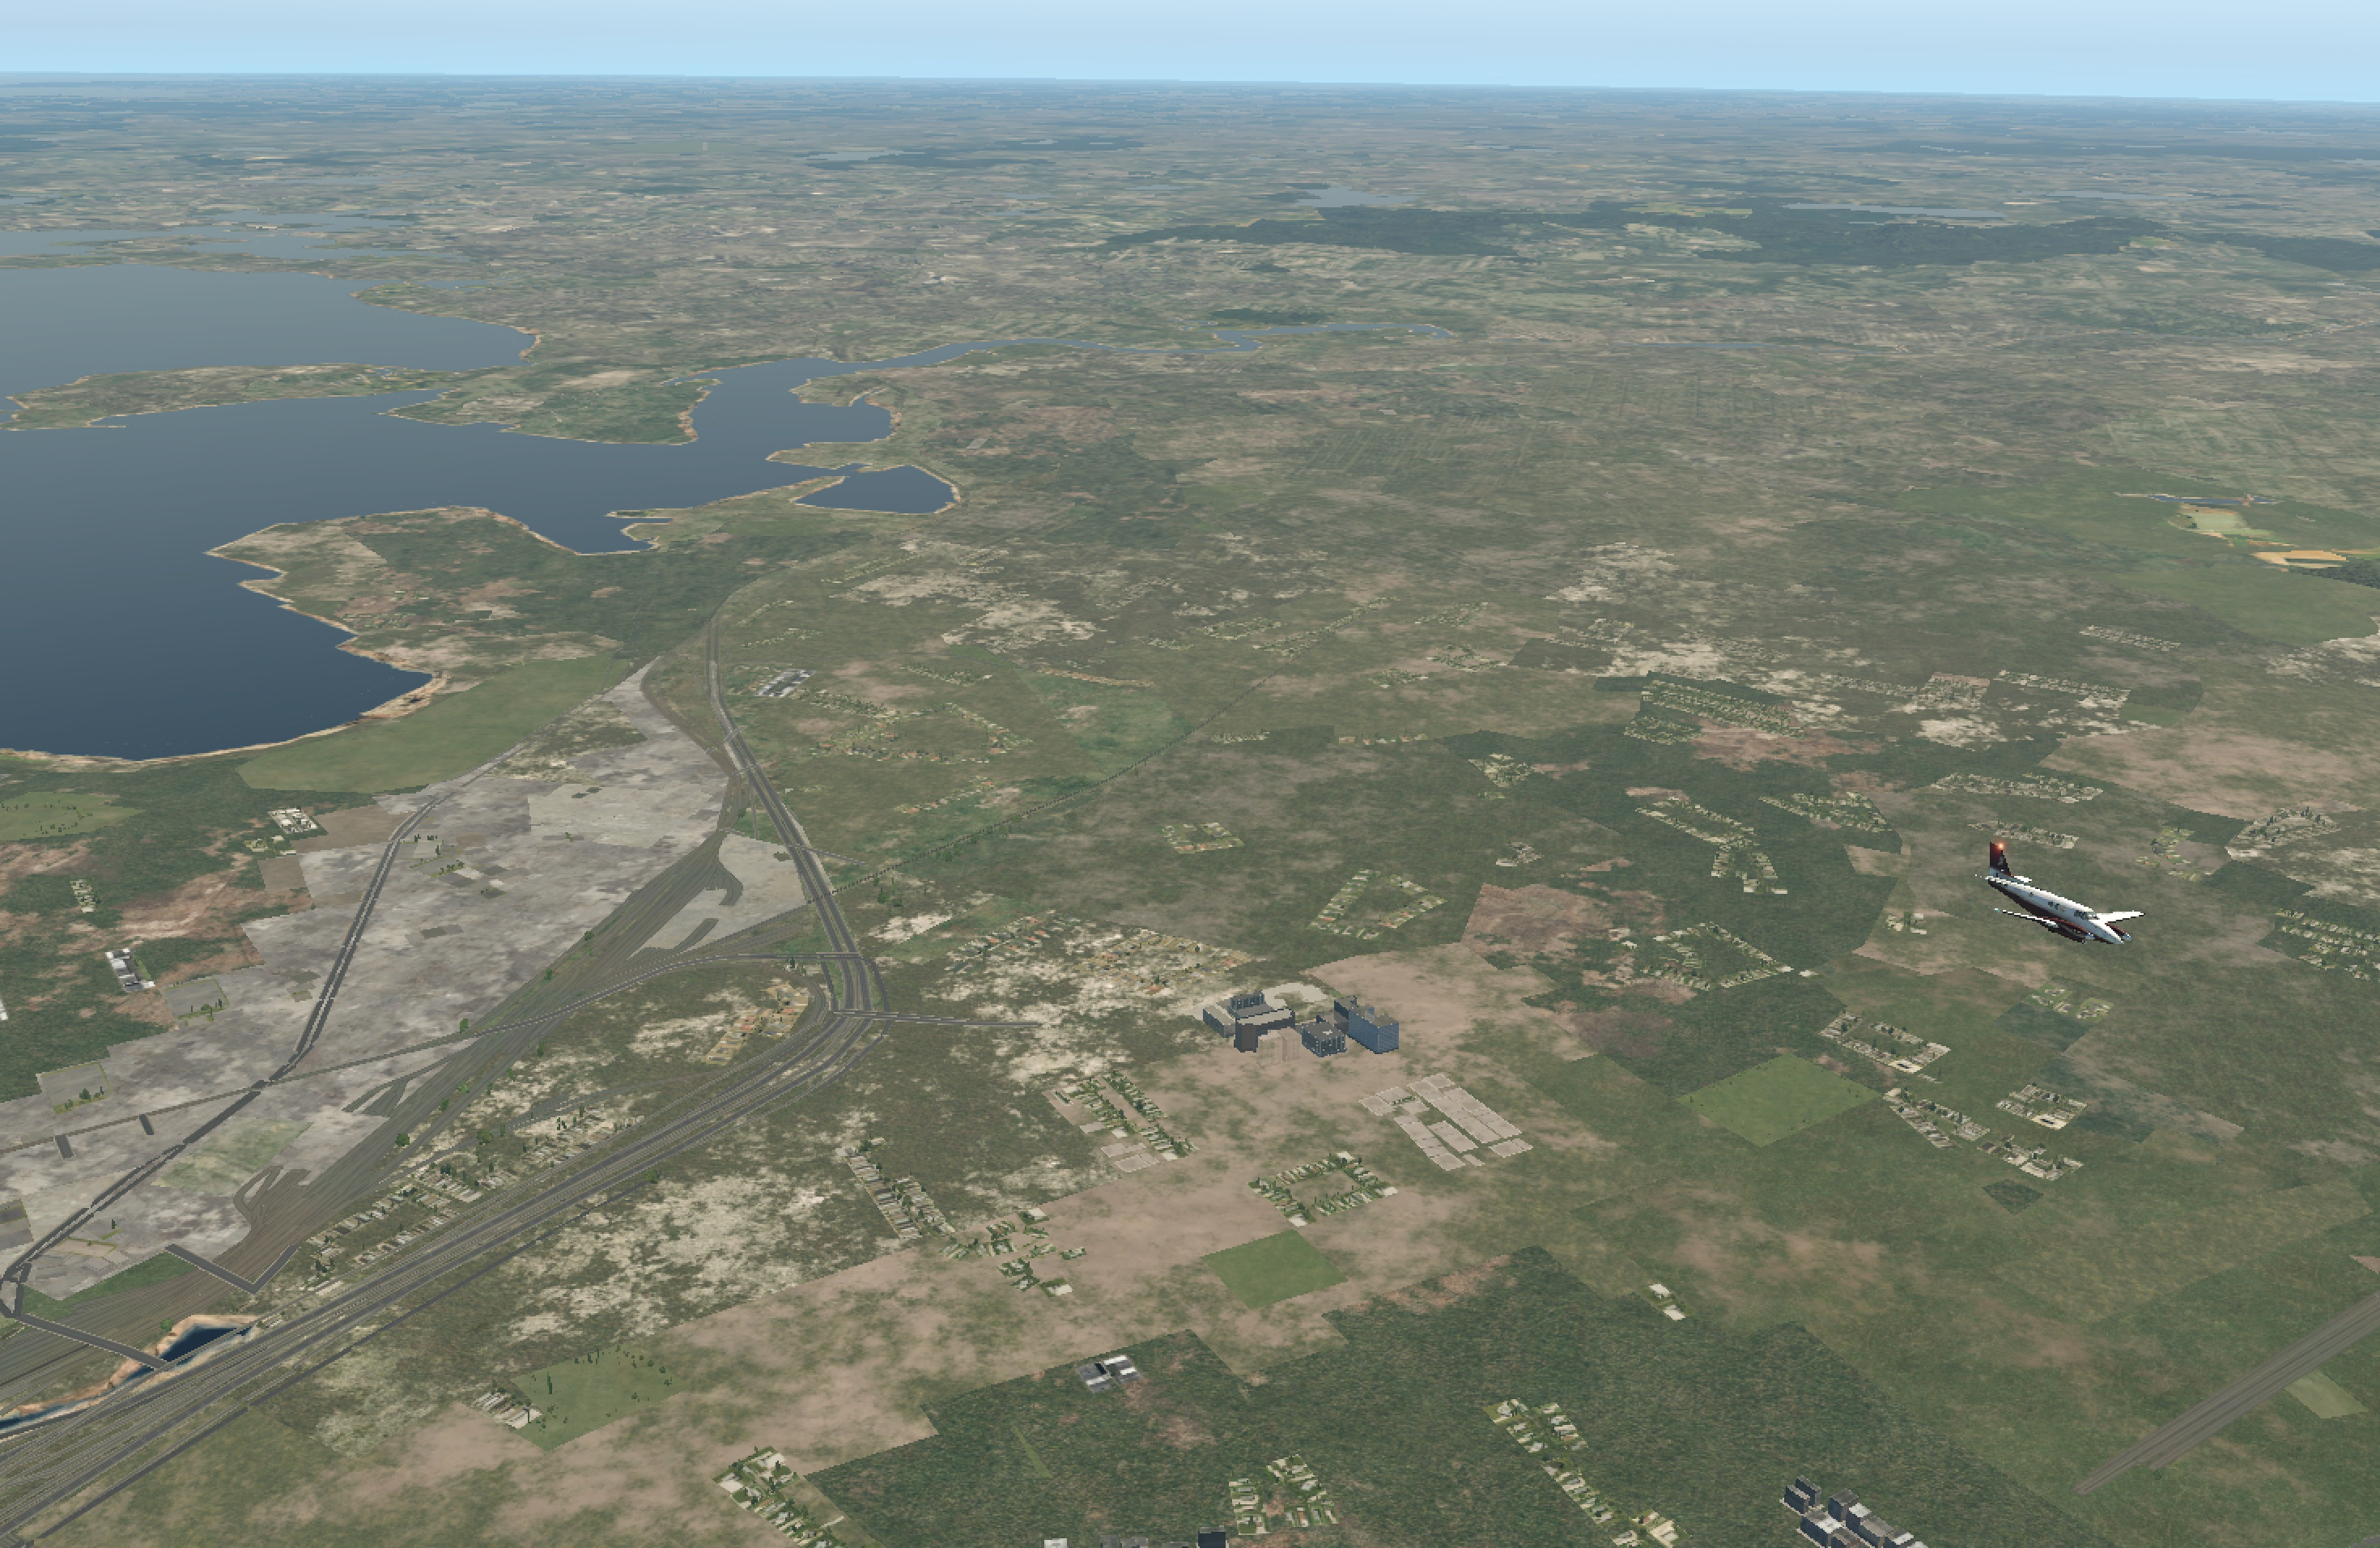aircraft: (1957, 885, 2186, 972)
